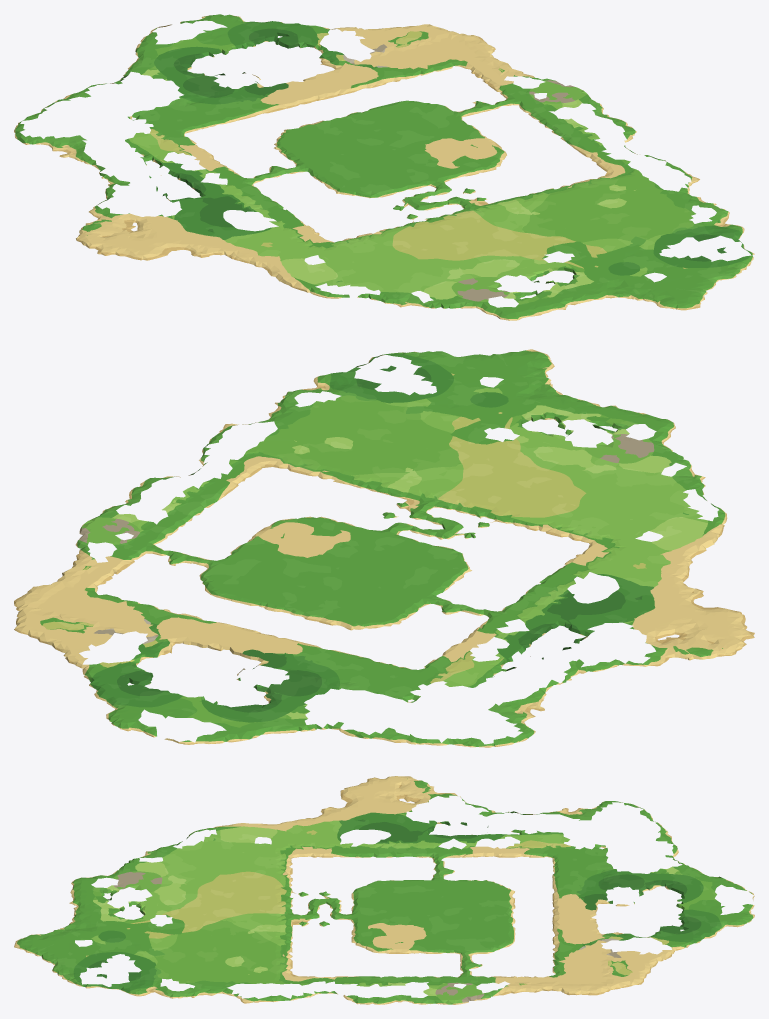
Rendered from Isl-orc2-Ground.fbx.
3 renders of one model, top to bottom at view 1: azimuth 30°, elevation 25°; view 2: azimuth 150°, elevation 25°; view 3: azimuth 270°, elevation 25°, orthographic. The views are drawn at different scales.
Visible parts, largest first — view 1: Isl-orc2-Ground-c21, Isl-orc2-Ground-c22, Isl-orc2-Ground-c11, Isl-orc2-Ground-c12, Isl-orc2-Ground-c20, Isl-orc2-Ground-c23, Isl-orc2-Ground-c10, Isl-orc2-Ground-c13, Isl-orc2-Ground-c01, Isl-orc2-Ground-c02; view 2: Isl-orc2-Ground-c21, Isl-orc2-Ground-c22, Isl-orc2-Ground-c11, Isl-orc2-Ground-c12, Isl-orc2-Ground-c20, Isl-orc2-Ground-c23, Isl-orc2-Ground-c13, Isl-orc2-Ground-c10, Isl-orc2-Ground-c01, Isl-orc2-Ground-c02; view 3: Isl-orc2-Ground-c21, Isl-orc2-Ground-c22, Isl-orc2-Ground-c11, Isl-orc2-Ground-c12, Isl-orc2-Ground-c20, Isl-orc2-Ground-c23, Isl-orc2-Ground-c13, Isl-orc2-Ground-c10, Isl-orc2-Ground-c01, Isl-orc2-Ground-c02, Isl-orc2-Ground-c31, Isl-orc2-Ground-c32.
Part boxes in pixels (box(x1,y1,x2,y2)): Isl-orc2-Ground-c21: box(365, 114, 729, 270); Isl-orc2-Ground-c22: box(242, 24, 602, 171); Isl-orc2-Ground-c11: box(131, 171, 501, 302); Isl-orc2-Ground-c12: box(14, 74, 364, 231); Isl-orc2-Ground-c20: box(503, 218, 754, 310); Isl-orc2-Ground-c23: box(165, 14, 429, 57); Isl-orc2-Ground-c10: box(384, 271, 552, 320); Isl-orc2-Ground-c13: box(17, 26, 223, 125); Isl-orc2-Ground-c01: box(82, 230, 164, 260); Isl-orc2-Ground-c02: box(76, 205, 130, 243); Isl-orc2-Ground-c21: box(130, 389, 565, 567); Isl-orc2-Ground-c22: box(14, 501, 406, 680); Isl-orc2-Ground-c11: box(408, 451, 727, 635); Isl-orc2-Ground-c12: box(253, 568, 681, 746); Isl-orc2-Ground-c20: box(304, 349, 623, 450); Isl-orc2-Ground-c23: box(14, 628, 217, 740); Isl-orc2-Ground-c13: box(173, 684, 495, 747); Isl-orc2-Ground-c10: box(566, 409, 705, 486); Isl-orc2-Ground-c01: box(682, 607, 754, 649); Isl-orc2-Ground-c02: box(642, 635, 739, 666); Isl-orc2-Ground-c21: box(160, 896, 402, 999); Isl-orc2-Ground-c22: box(400, 896, 641, 999); Isl-orc2-Ground-c11: box(160, 795, 402, 899); Isl-orc2-Ground-c12: box(399, 795, 641, 898); Isl-orc2-Ground-c20: box(14, 896, 162, 996); Isl-orc2-Ground-c23: box(638, 896, 754, 984); Isl-orc2-Ground-c13: box(639, 807, 754, 898); Isl-orc2-Ground-c10: box(70, 847, 163, 898); Isl-orc2-Ground-c01: box(340, 776, 401, 797); Isl-orc2-Ground-c02: box(399, 776, 460, 797); Isl-orc2-Ground-c31: box(240, 997, 401, 1004); Isl-orc2-Ground-c32: box(400, 997, 484, 1004).
Size of the model in its own units: 99.5 by 0.4894 by 136.
